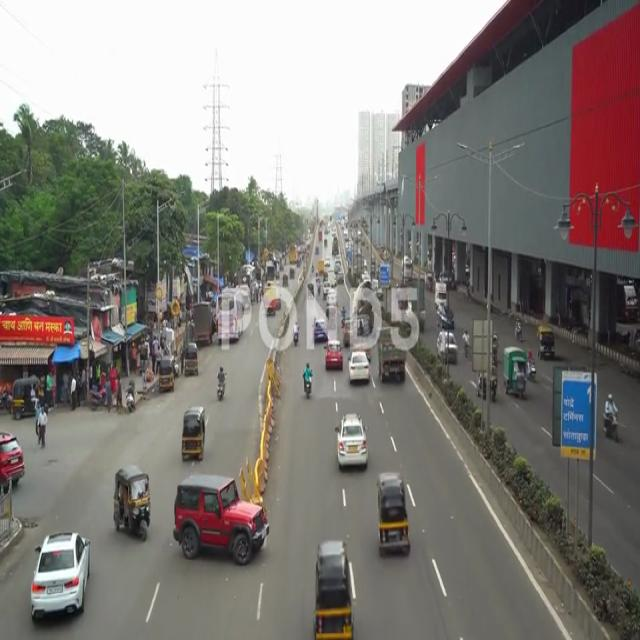car: (172, 466, 268, 576), (28, 524, 96, 626), (337, 412, 369, 478), (347, 347, 374, 380)
motorbike: (601, 393, 626, 453), (214, 360, 228, 408), (300, 359, 314, 405)
person: (38, 406, 48, 452)
rikshaw: (314, 534, 356, 640), (112, 460, 150, 546), (376, 472, 411, 558), (181, 406, 205, 462)
truck: (502, 339, 530, 406)
